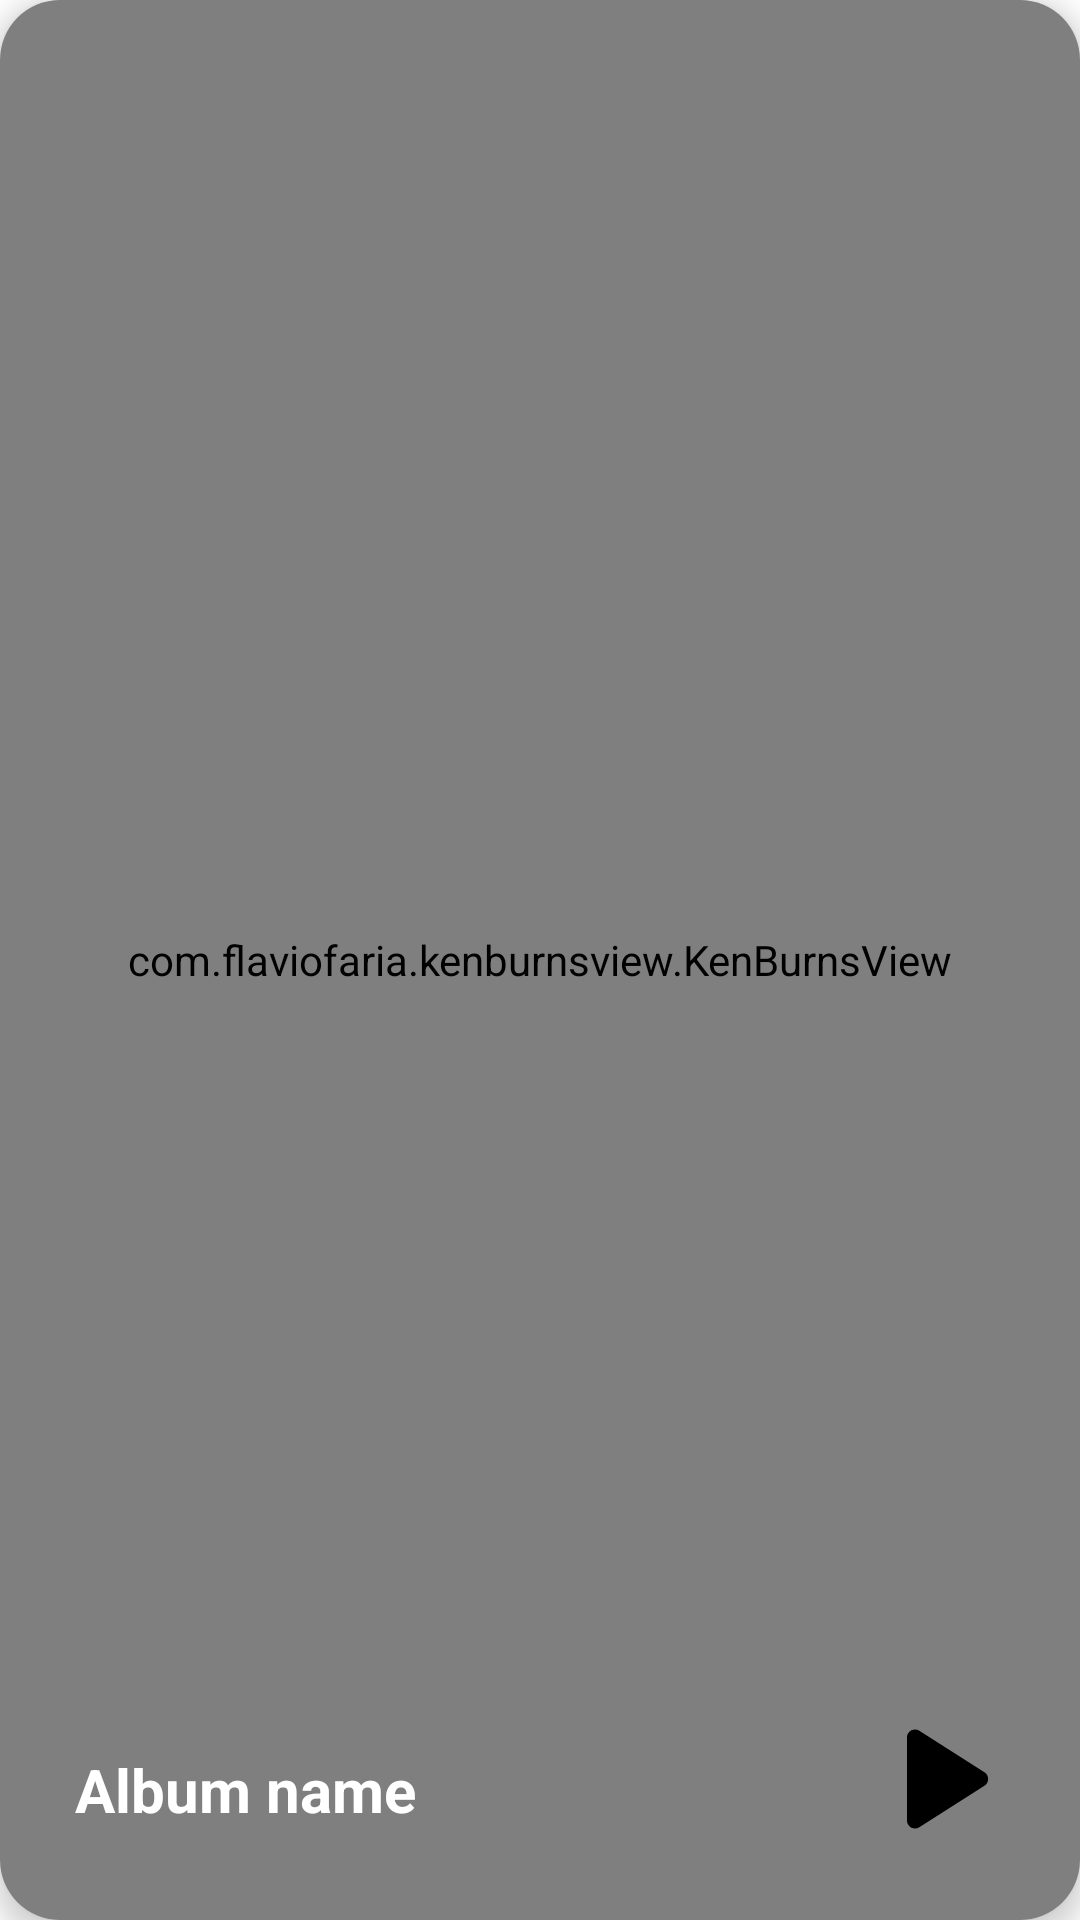

Icons on this 1080x1920 Android screen, each with the point to tap as (x,y):
play arrow: (947,1779)
